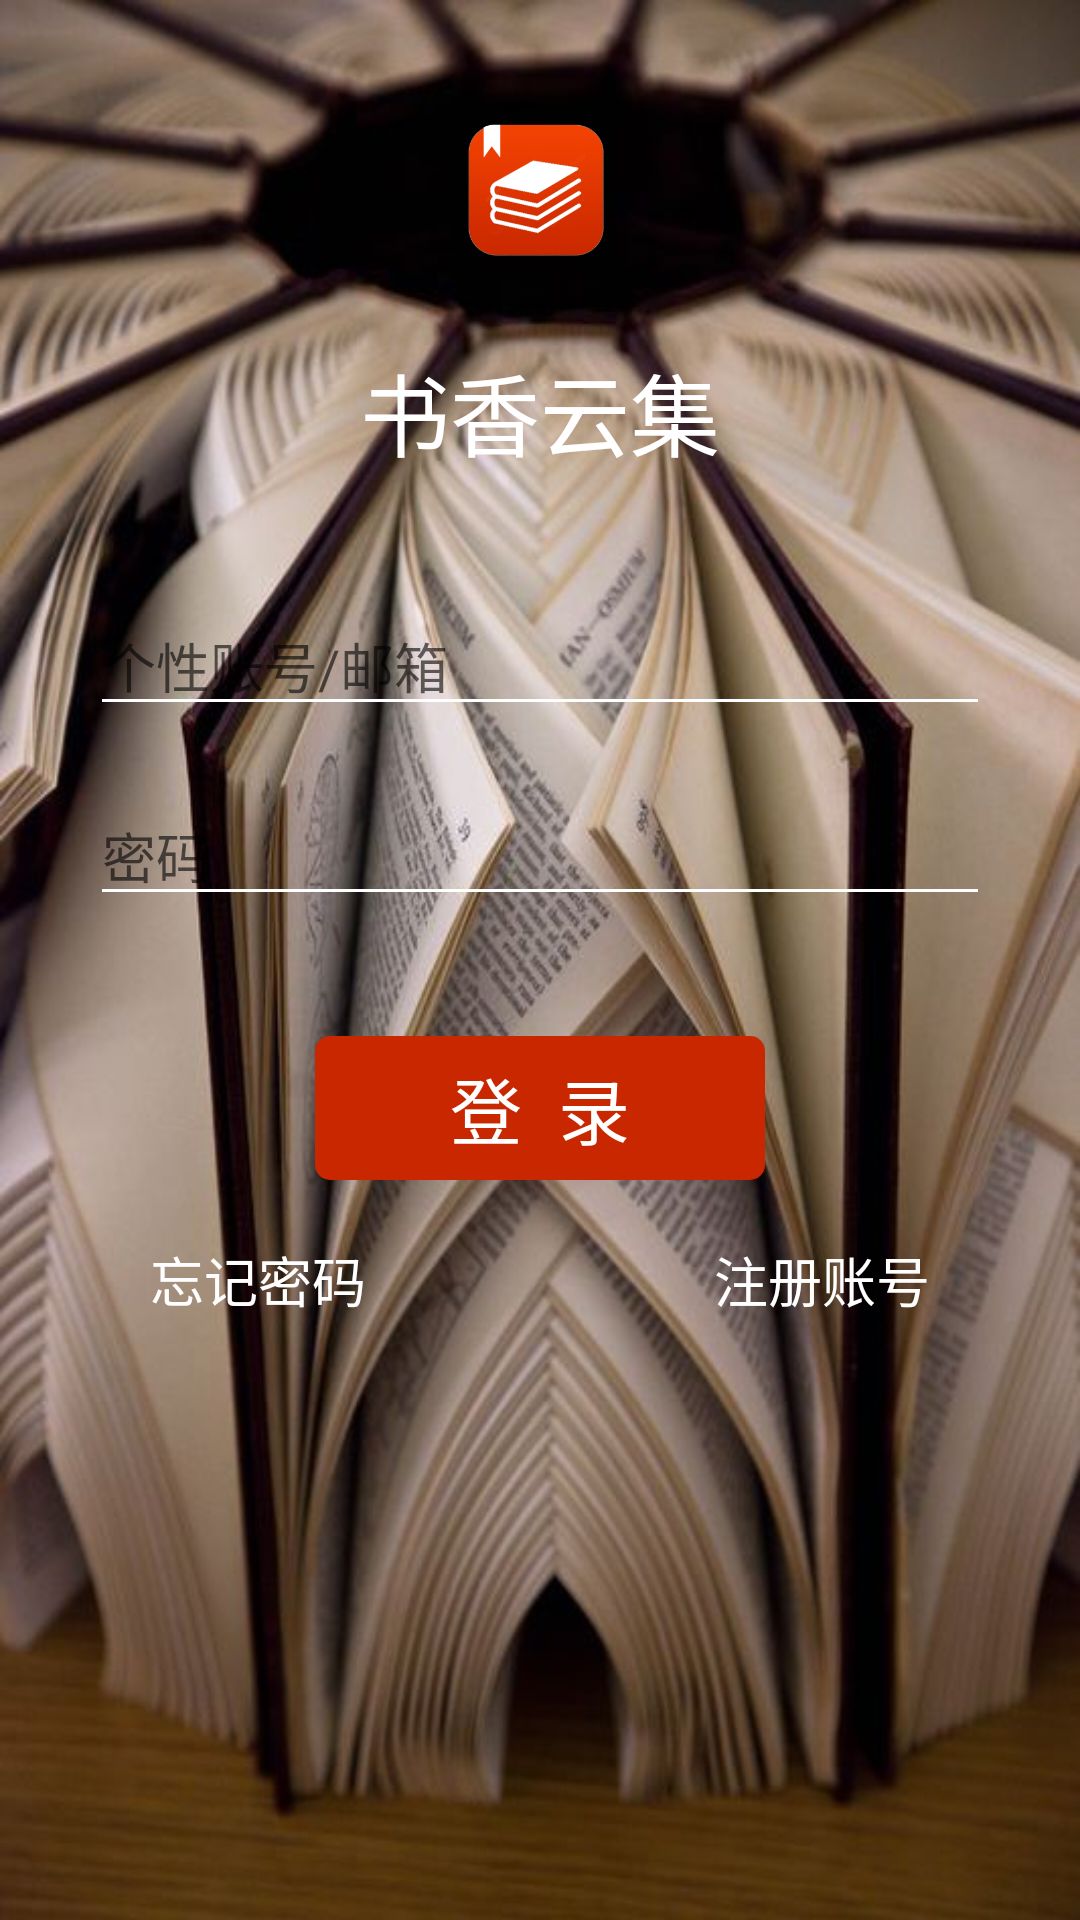

Icon click points for this 1080×1920 phone screenshot, format [x,y]:
luncher: [536,190]
